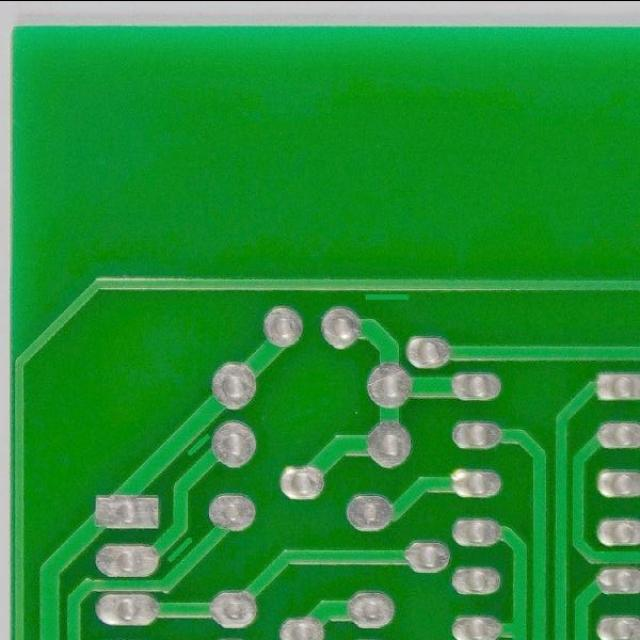Spurious_Cooper: (160, 530, 201, 568), (179, 427, 217, 462), (360, 290, 415, 305)
